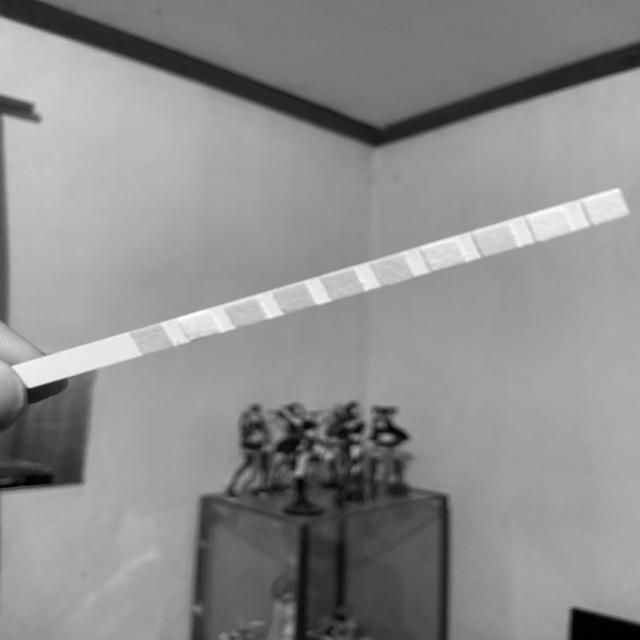Bilirubin: (188, 316, 212, 336)
Blood: (329, 275, 357, 293)
Glucose: (140, 330, 164, 350)
Ketone: (233, 304, 258, 322)
Leukocytes: (590, 198, 621, 217)
Nitrite: (534, 214, 561, 235)
Protein: (429, 246, 456, 266)
SpGravity: (283, 289, 306, 308)
Urobilinogen: (481, 228, 510, 250)
background: (0, 0, 640, 640)
pH: (377, 260, 405, 280)
strip: (12, 188, 630, 389)
